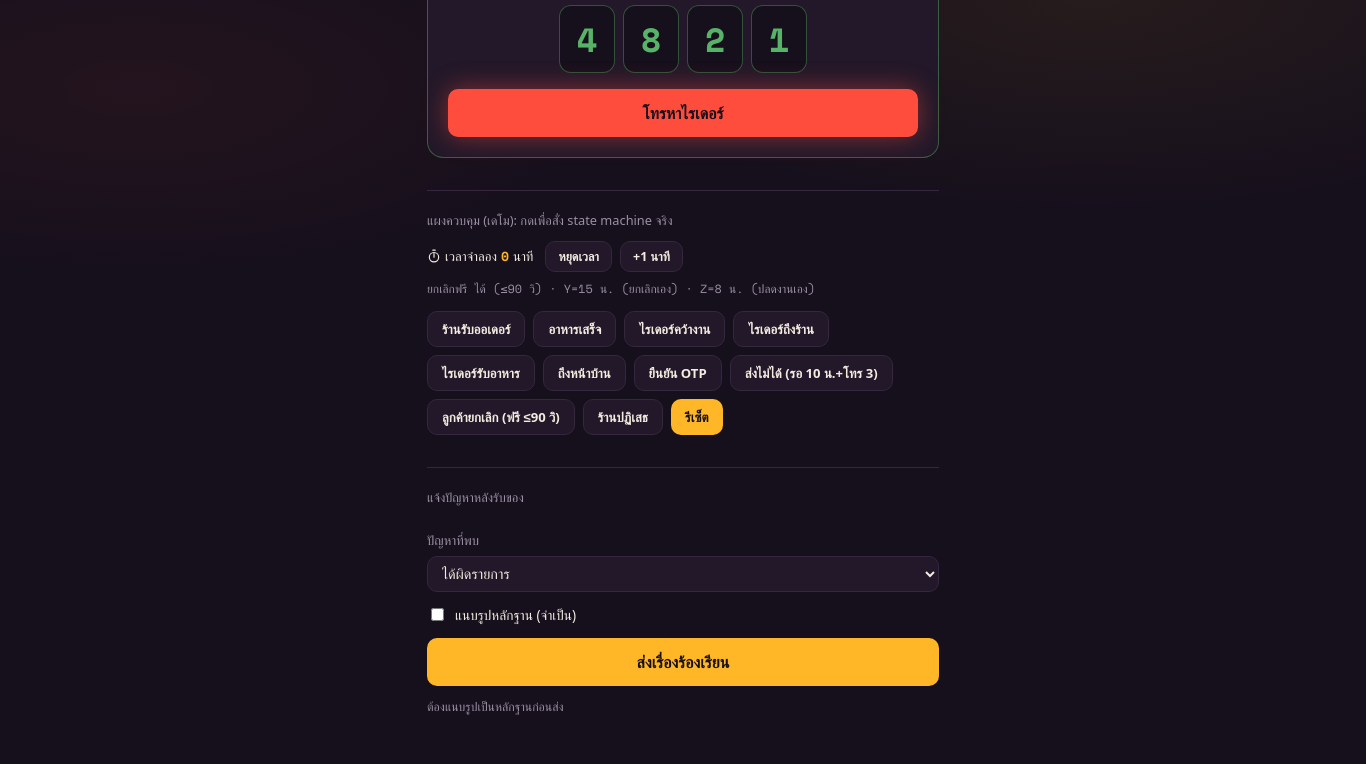
Test: Track — ร้องเรียนหลังส่ง (ADR 0006) › ออเดอร์สำเร็จ: กล่องร้องเรียนโผล่ + ต้องแนบรูปก่อนส่งได้
(page scrolled)
Expected: the text "แจ้งปัญหาหลังรับของ" is shown, [427,488,524,506]
Expected: the button "ส่งเรื่องร้องเรียน" is disabled, [427,638,939,686]
Click the checkbox at {"x": 438, "y": 615}, box [431,608,444,622]
(page scrolled)
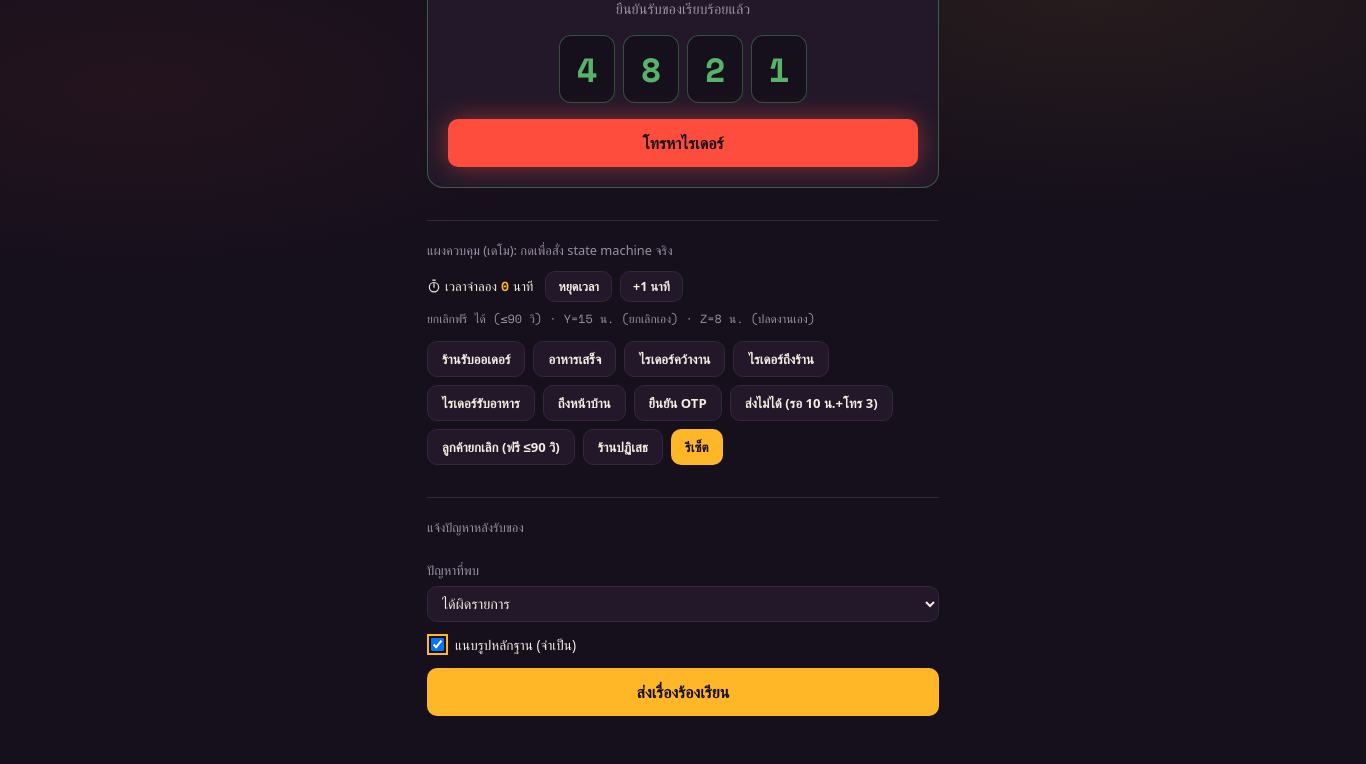
Expected: the button "ส่งเรื่องร้องเรียน" is enabled
Click the button "ส่งเรื่องร้องเรียน" at {"x": 683, "y": 692}, box [427,668,939,716]
(page scrolled)
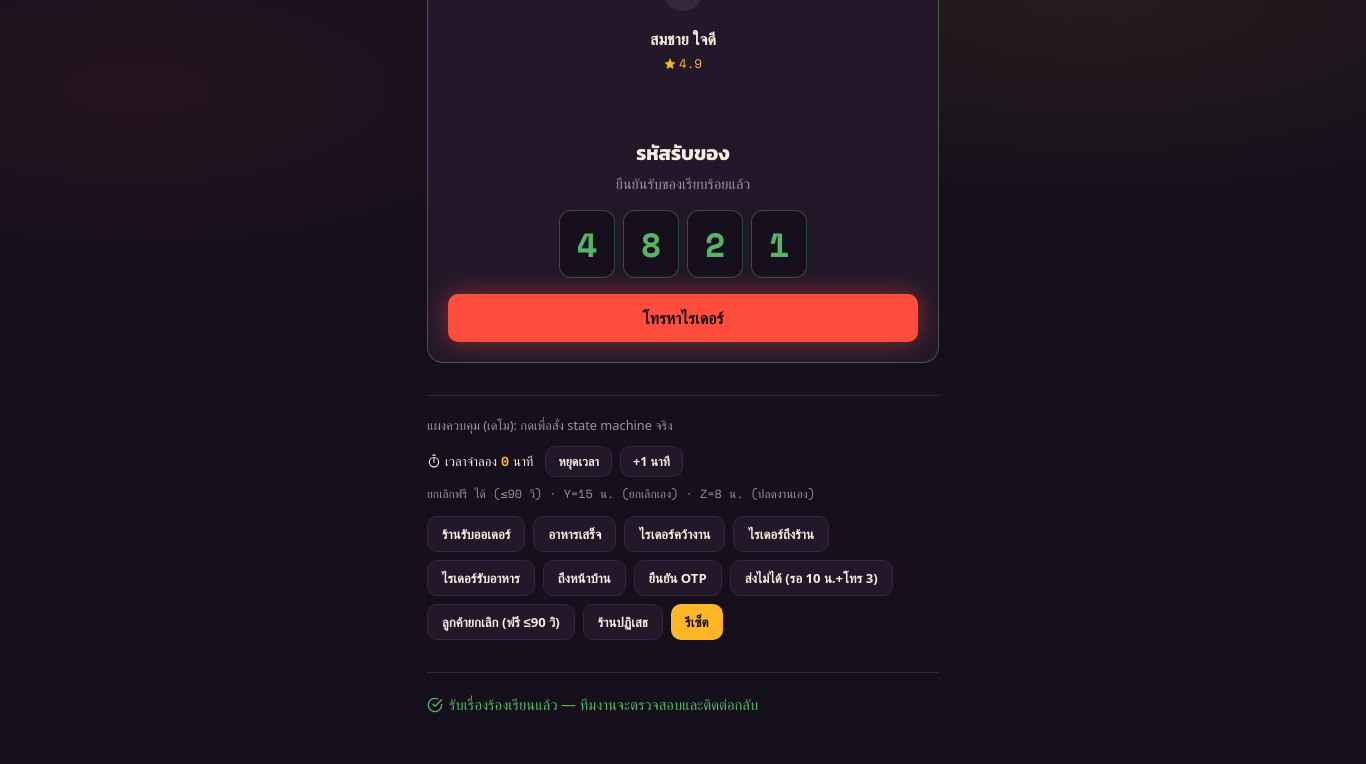
Expected: the text "รับเรื่องร้องเรียนแล้ว — ทีมงานจะตรวจสอบและติดต่อกลับ" is shown, [427,694,758,714]
